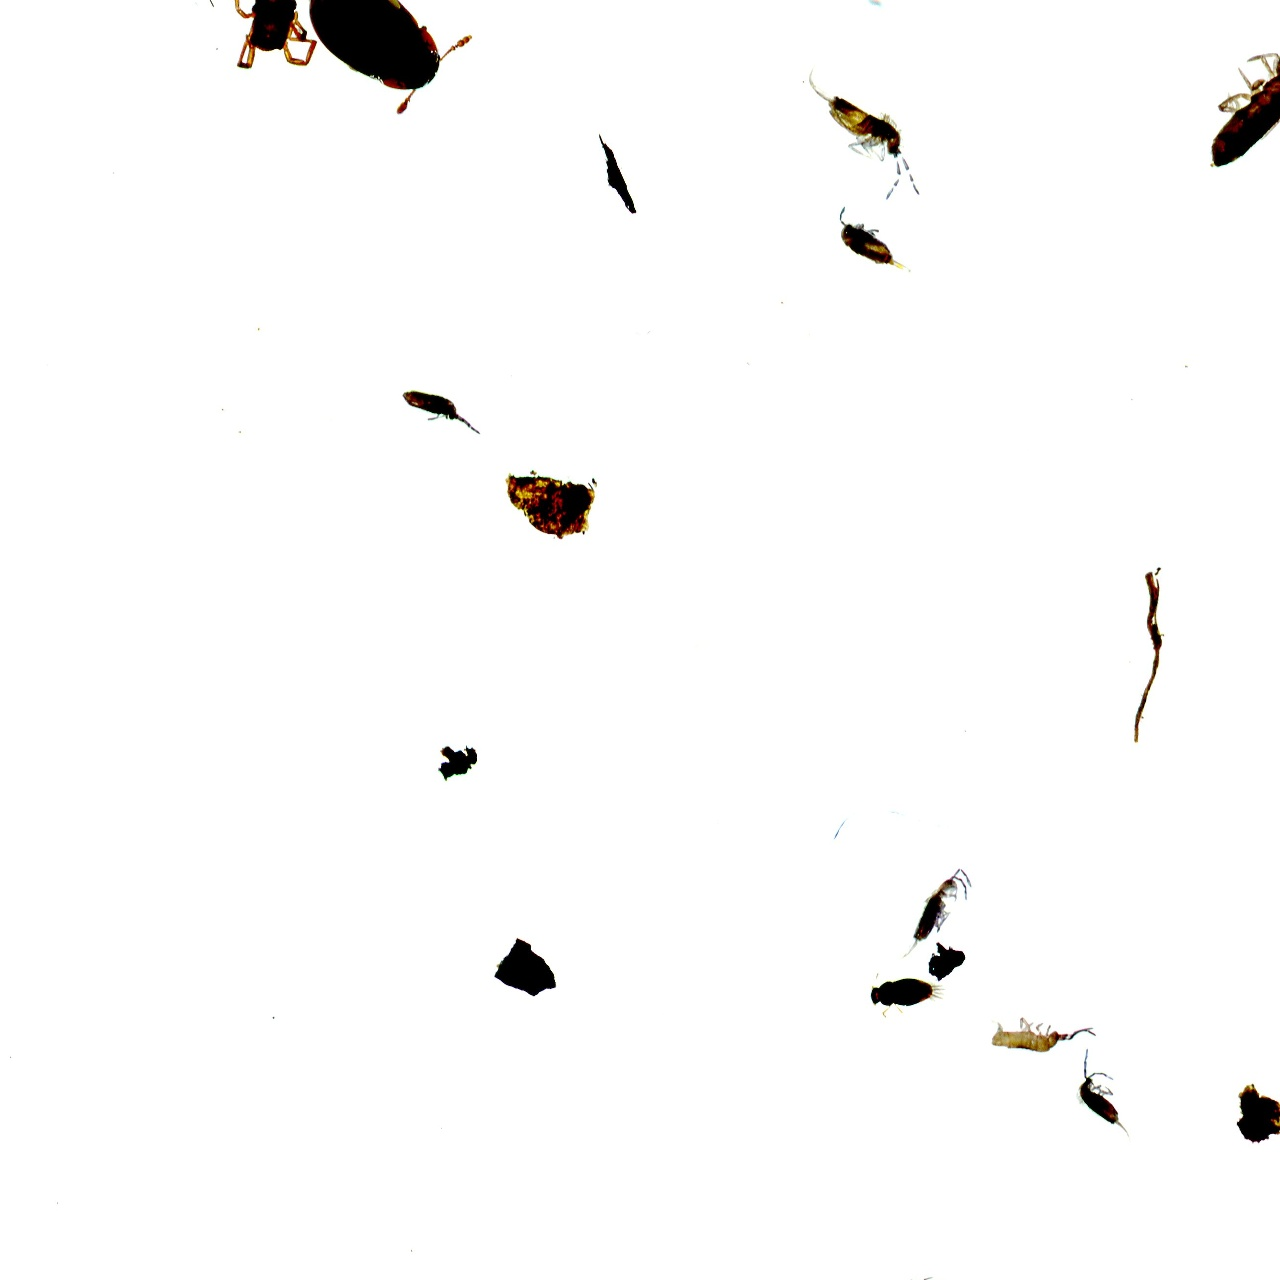arthropod: (269, 0, 496, 134), (1182, 0, 1280, 201), (804, 62, 927, 205), (894, 854, 984, 972), (219, 0, 327, 82), (1066, 1043, 1139, 1139), (835, 204, 920, 284), (978, 1011, 1103, 1057), (390, 383, 484, 441), (865, 969, 952, 1024), (875, 1268, 995, 1280)
